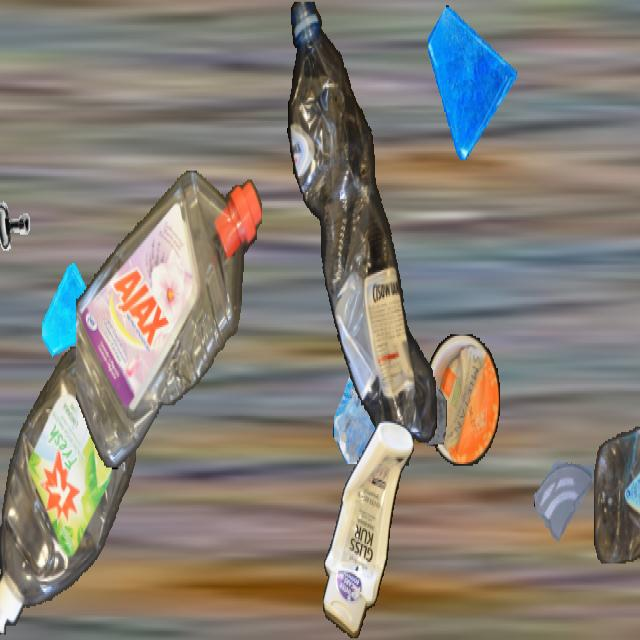glass: (428, 2, 516, 158), (333, 318, 415, 464), (381, 331, 447, 448), (534, 436, 596, 546), (42, 263, 100, 366)
metal: (0, 187, 34, 261)
plastic: (285, 2, 441, 464), (76, 171, 262, 469), (0, 347, 136, 638), (323, 422, 413, 638), (425, 334, 499, 466), (594, 400, 640, 564)
